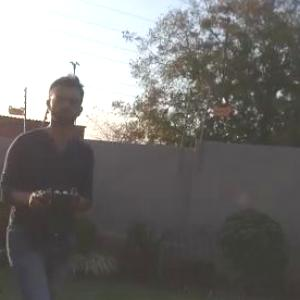follow: (0, 66, 98, 299)
